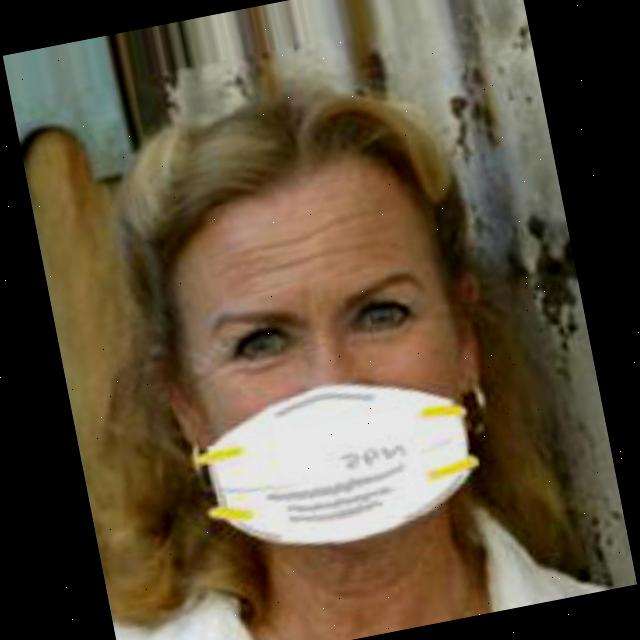suspicion: (103, 79, 560, 618)
